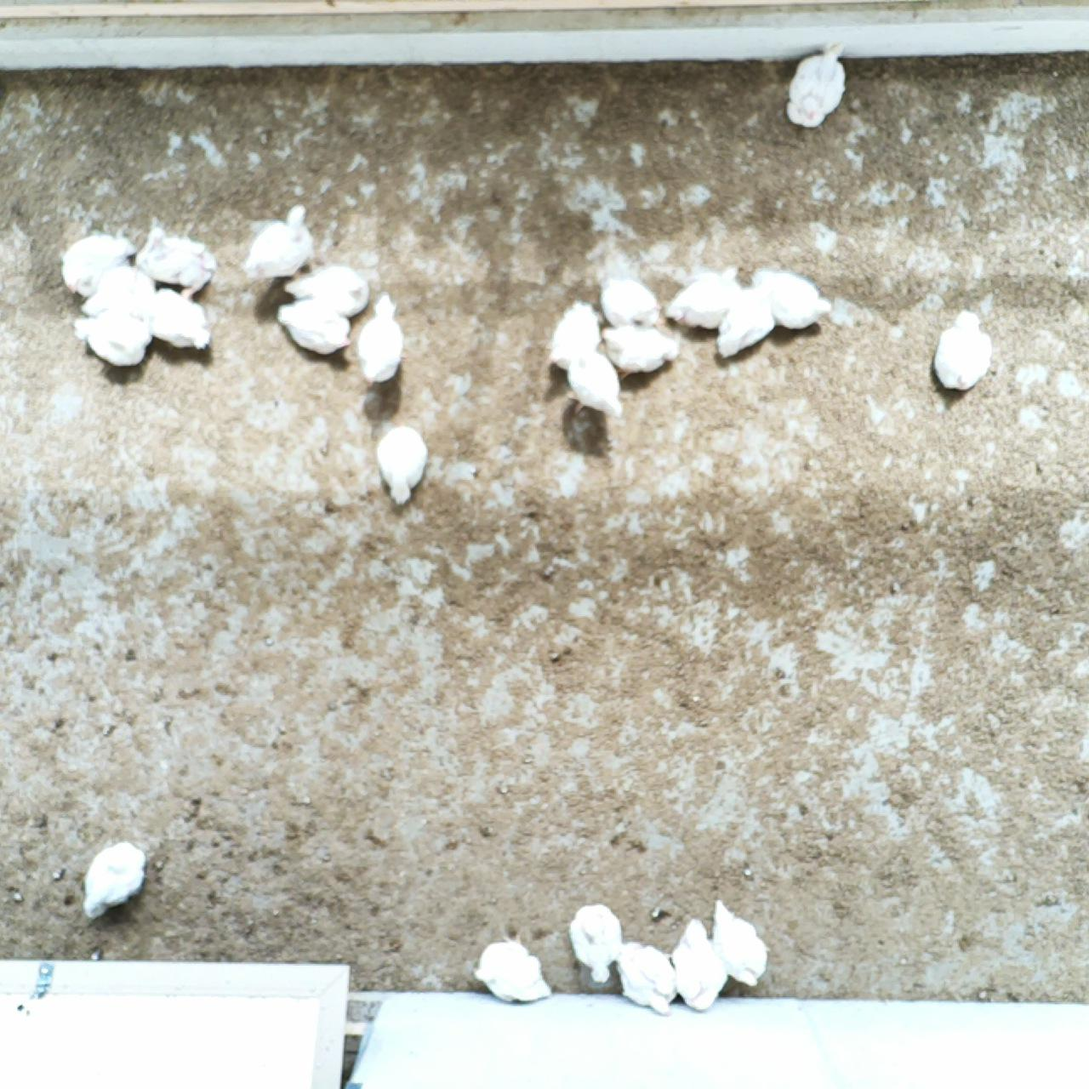chicken: (664, 913, 736, 1020), (239, 198, 316, 284), (595, 319, 685, 388), (706, 897, 771, 991), (668, 259, 749, 334), (131, 228, 216, 299), (81, 837, 147, 926), (606, 936, 677, 1018), (60, 231, 144, 300), (749, 267, 836, 333), (472, 937, 552, 1006), (784, 41, 848, 127), (70, 307, 158, 368), (932, 308, 994, 391), (375, 420, 433, 508), (280, 263, 371, 318), (560, 339, 621, 420), (714, 287, 777, 364), (141, 286, 211, 355), (355, 294, 405, 389), (569, 901, 623, 988), (546, 298, 607, 373), (275, 298, 352, 357), (598, 273, 665, 336), (76, 265, 156, 317)
